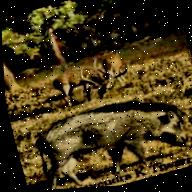boar: (22, 75, 192, 191)
